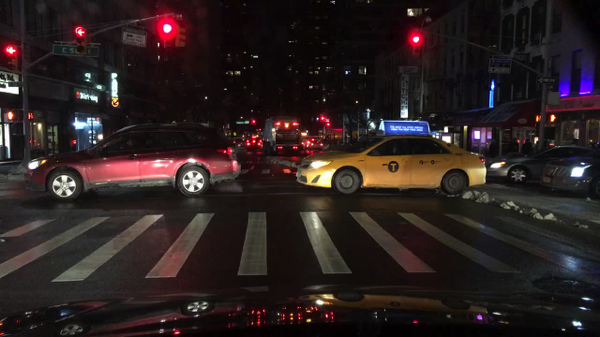car: (23, 122, 242, 202), (294, 119, 489, 196), (485, 145, 594, 186), (539, 142, 599, 199), (242, 133, 263, 152), (308, 139, 325, 151), (231, 137, 242, 148), (301, 140, 305, 148)
person: (522, 138, 534, 153), (509, 136, 520, 151)
traffic light: (4, 45, 20, 72), (75, 27, 88, 56), (176, 22, 188, 48), (162, 20, 173, 48), (412, 34, 422, 55), (6, 110, 15, 122), (548, 114, 557, 123), (534, 115, 541, 122), (251, 119, 256, 128), (30, 112, 34, 121), (325, 123, 331, 128), (320, 117, 324, 123)
traffic sign: (51, 44, 100, 58), (123, 27, 147, 48), (490, 58, 511, 75), (536, 77, 555, 84), (8, 81, 20, 87), (235, 121, 250, 125), (546, 86, 555, 91)
truck: (263, 115, 302, 155)
